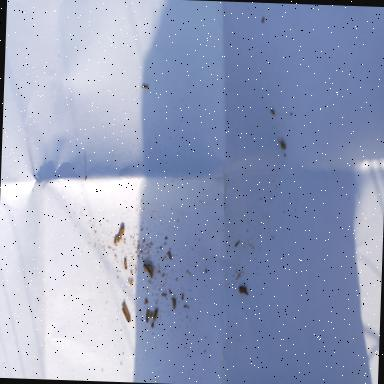pbw: (116, 225, 124, 243)
